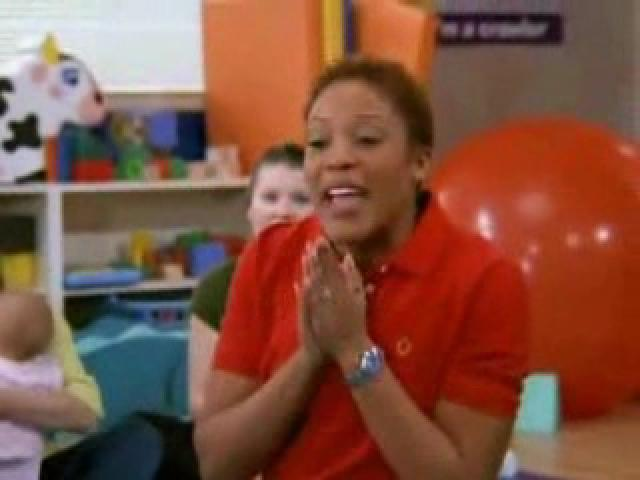F: (220, 55, 500, 480)
